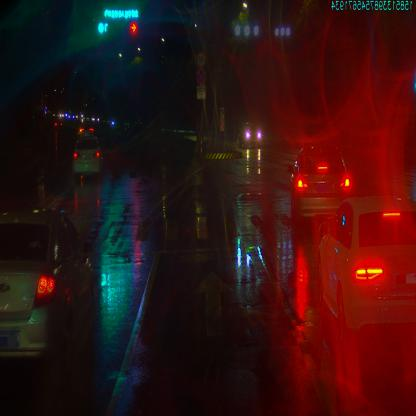traffic-light: (103, 7, 140, 19), (97, 22, 108, 33), (129, 22, 138, 35)
